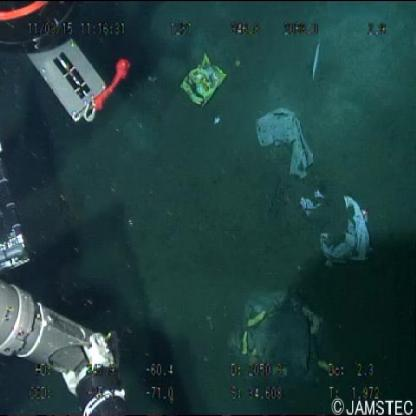Rov: (1, 250, 132, 414), (1, 1, 134, 130)
Rác: (298, 185, 376, 277), (250, 102, 314, 187), (178, 48, 228, 115)
